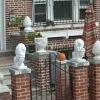Statue: (9, 36, 31, 82)
